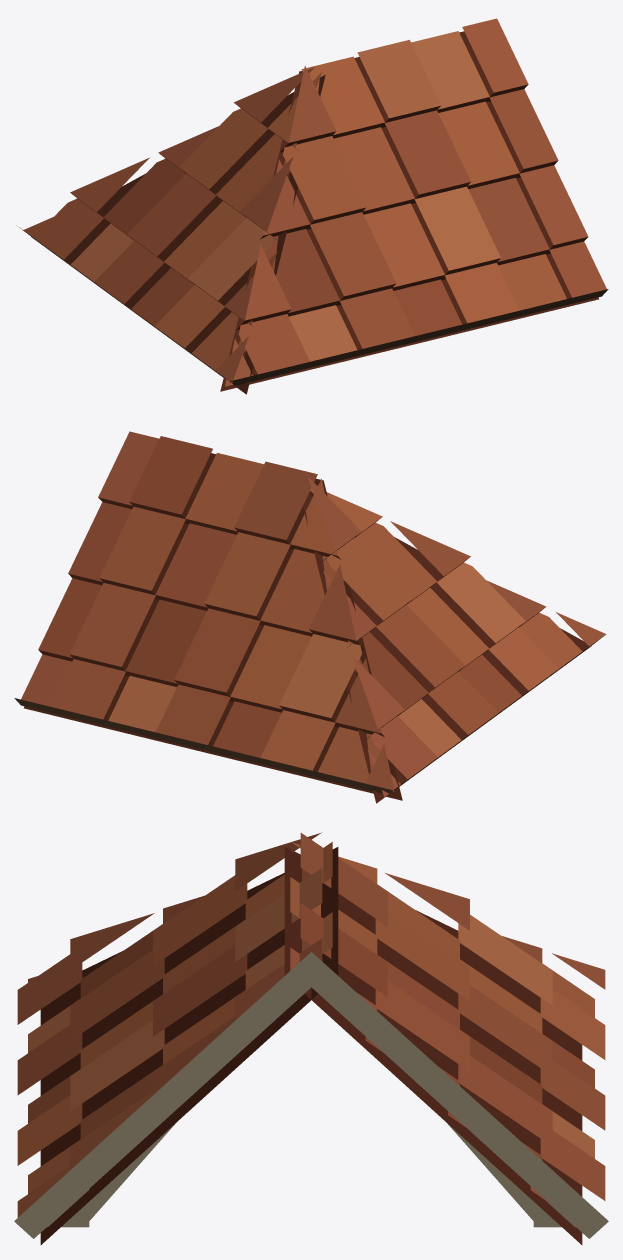
Rendered from roof-gable-end-tile.glb.
The picture shows the model from 3 angles, top to bottom: view 1: azimuth 30°, elevation 25°; view 2: azimuth 150°, elevation 25°; view 3: azimuth 270°, elevation 25°; orthographic projection. The views are drawn at different scales.
Visible parts, largest first — view 1: roof-gable-end-tile; view 2: roof-gable-end-tile; view 3: roof-gable-end-tile.
Part boxes in pixels (box(x1,y1,x2,y2)): roof-gable-end-tile: box(16, 18, 608, 394); roof-gable-end-tile: box(14, 431, 606, 803); roof-gable-end-tile: box(14, 832, 608, 1244).
Size of the model in its own units: 1.09 by 0.5834 by 1.07.
